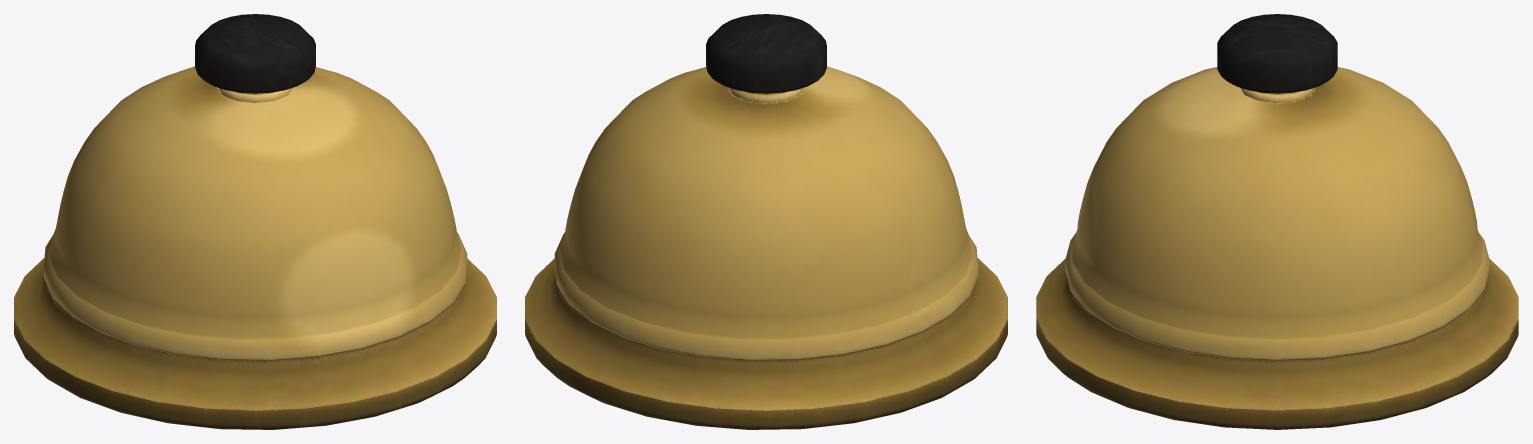
File: service-bell.glb
The picture shows the model from 3 angles, left to right: view 1: azimuth 30°, elevation 25°; view 2: azimuth 150°, elevation 25°; view 3: azimuth 270°, elevation 25°; orthographic projection.
Parts seen in each view (by area): view 1: bell_body, plunger; view 2: bell_body, plunger; view 3: bell_body, plunger.
Part boxes in pixels (x1=…): bell_body: x1=14, y1=66, x2=496, y2=429; plunger: x1=195, y1=14, x2=315, y2=95; bell_body: x1=525, y1=66, x2=1007, y2=429; plunger: x1=706, y1=14, x2=826, y2=95; bell_body: x1=1036, y1=67, x2=1518, y2=429; plunger: x1=1217, y1=14, x2=1337, y2=94.
Bounding box in the file's own units: 0.096 × 0.0661 × 0.0955.
1 material, 1 textured.
